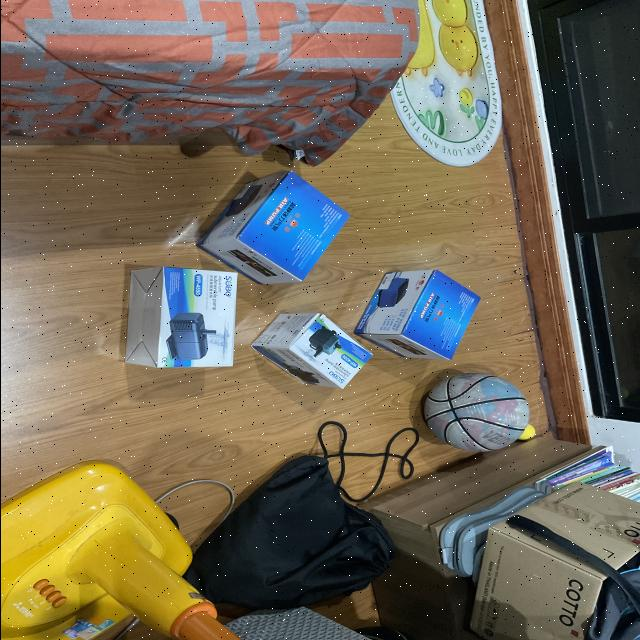SOBO_WP_4200: (95, 264, 241, 384), (250, 306, 368, 404)
YAMANO_LPP_20: (195, 164, 356, 288), (351, 256, 493, 372)
